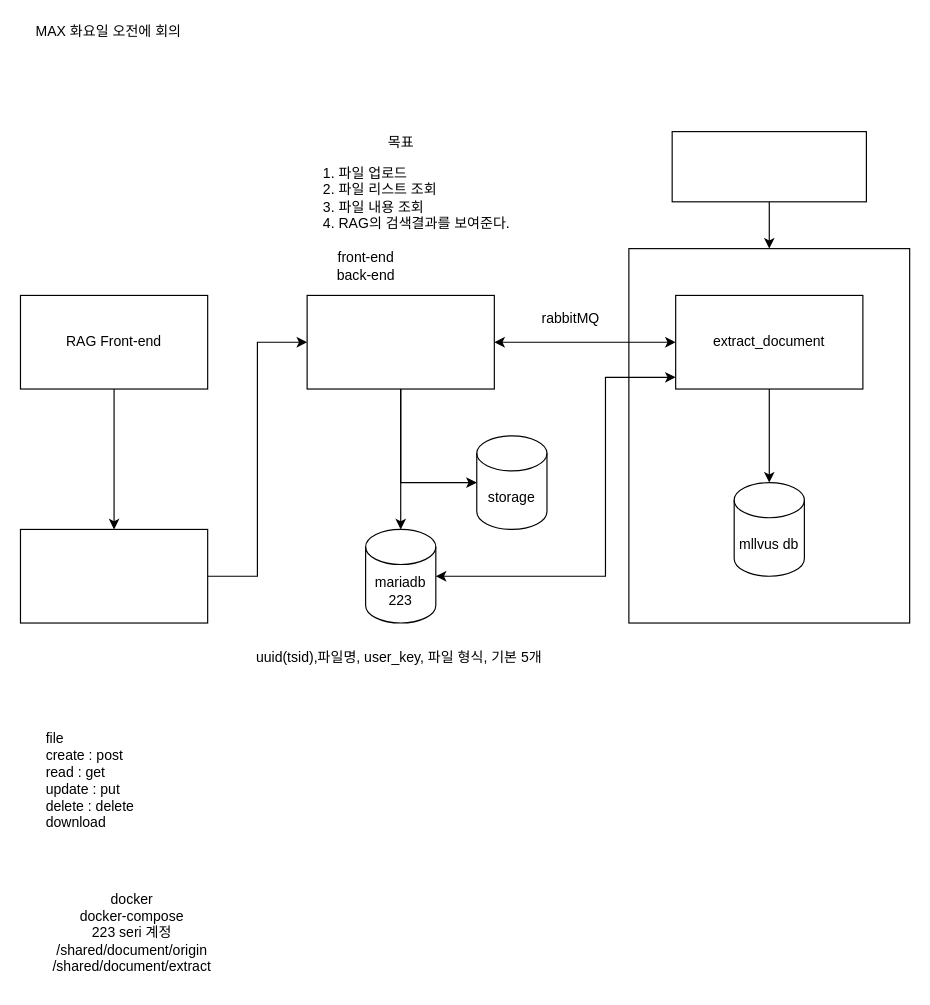
The diagram is 930 pixels wide and 1005 high, and some of its shapes have lost their labels. Here are the shapes that lost their labels. From the top down, the centre of each, then its label:
(768,166): orchestrator
(400,341): RAG Back-end
(113,575): UI
